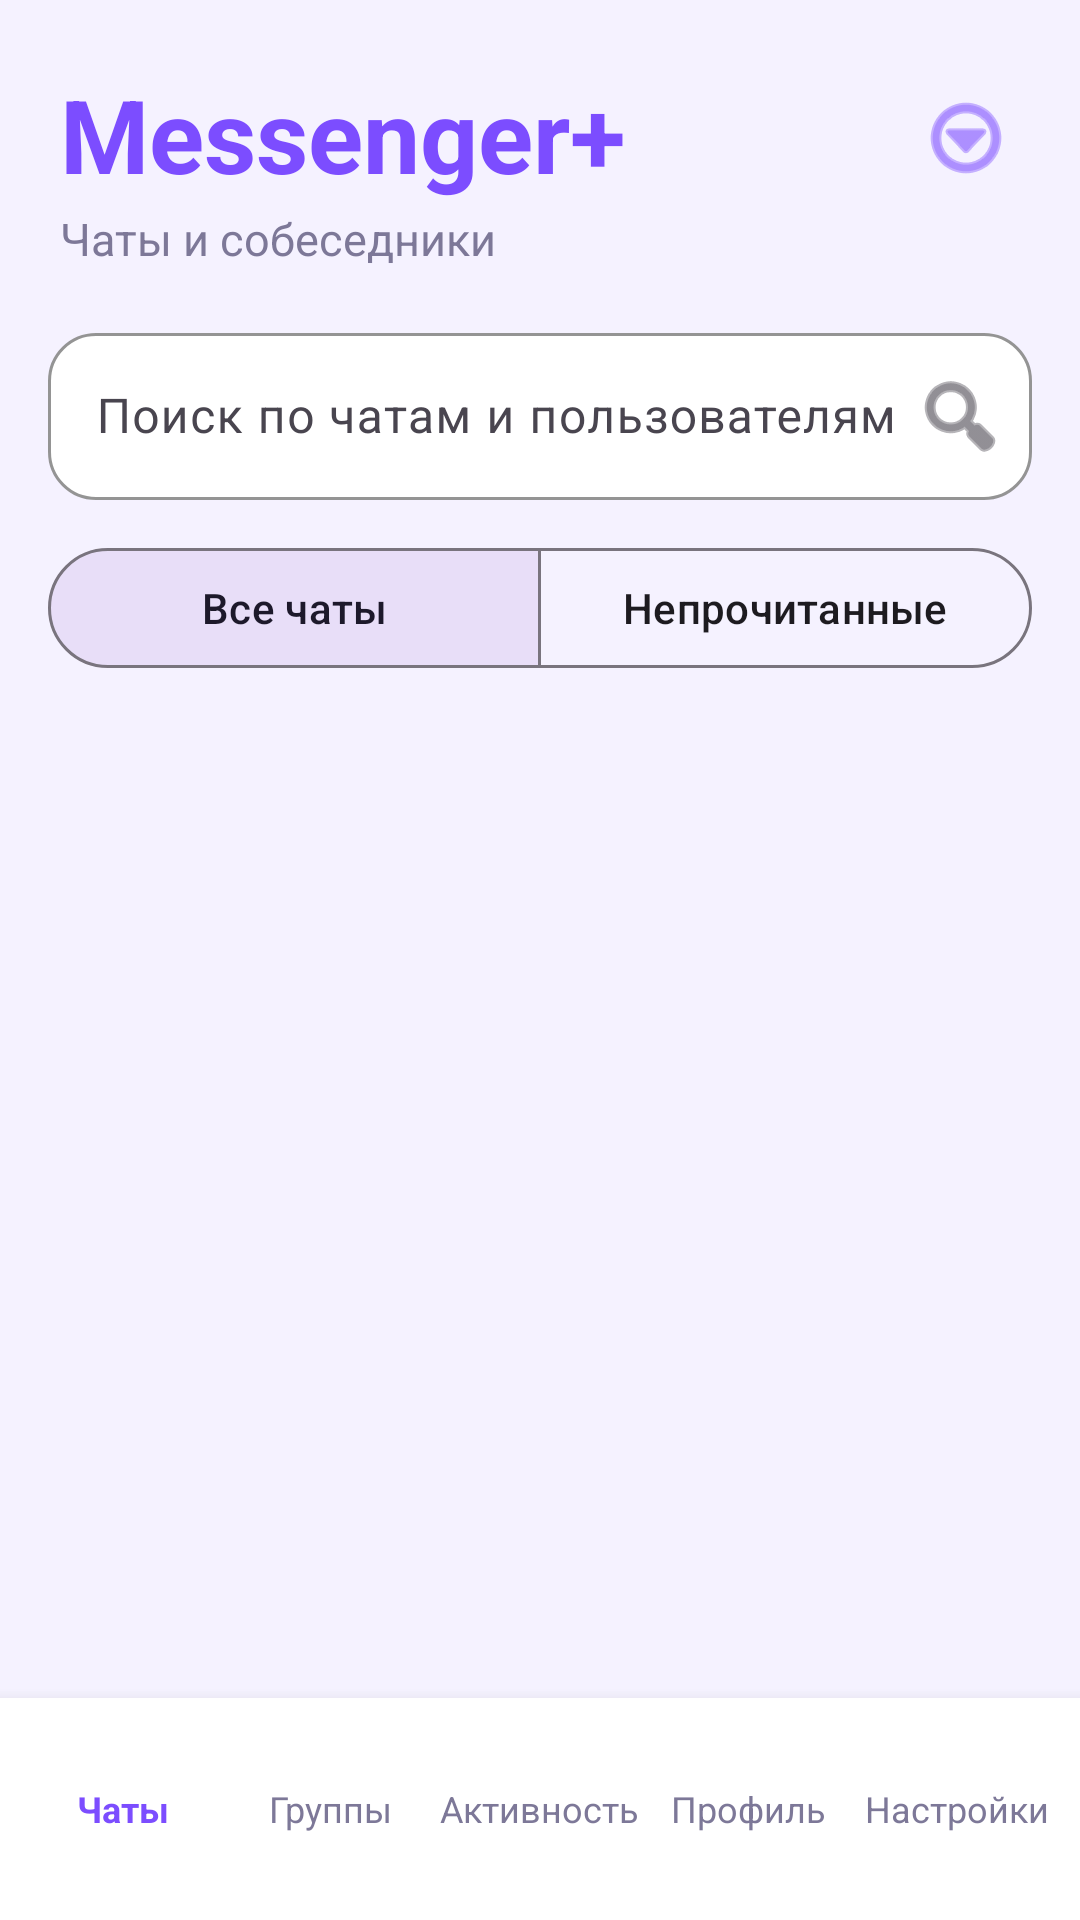

Icon click points for this 1080 × 1920 phone screenshot, format (x=x, y=y):
Меню: (x=966, y=138)
